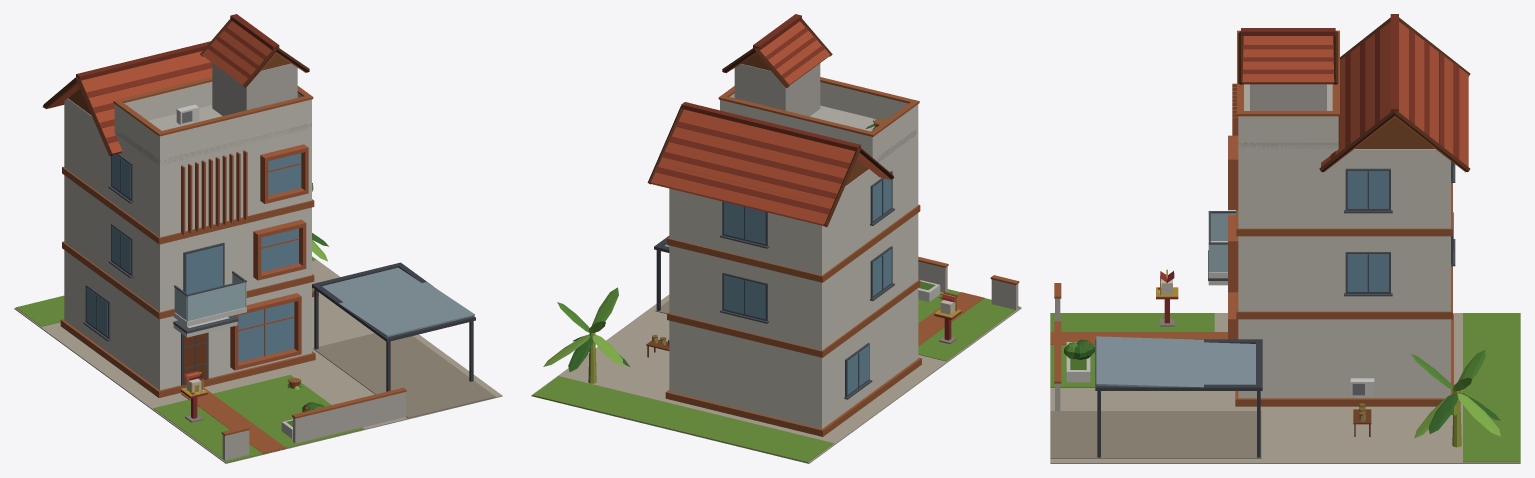
File: house12_2.glb
3 renders of one model, left to right at view 1: azimuth 30°, elevation 25°; view 2: azimuth 150°, elevation 25°; view 3: azimuth 270°, elevation 25°, orthographic. The views are drawn at different scales.
Parts seen in each view (by area): view 1: body; view 2: body; view 3: body.
Part boxes in pixels (<box>): body: <box>14,14,502,463</box>; body: <box>531,14,1021,463</box>; body: <box>1050,14,1520,463</box>.
Bounding box in the file's own units: 12 × 13.65 × 15.9.
